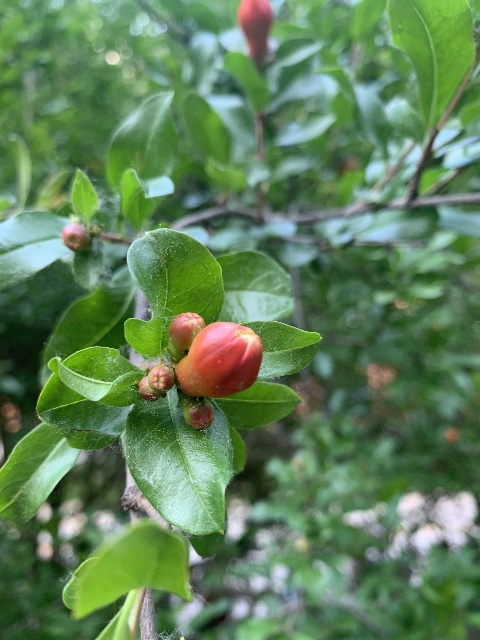bud: (176, 320, 263, 397), (236, 0, 271, 60), (168, 312, 207, 360), (178, 396, 213, 429), (148, 365, 174, 392), (138, 374, 160, 401)
